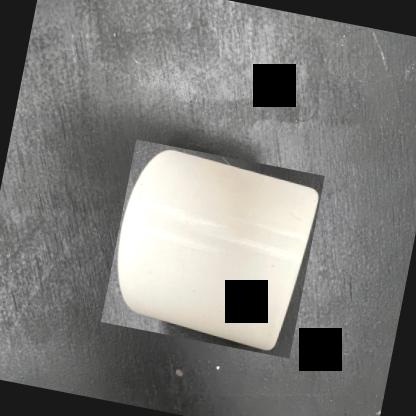white cylinder: (101, 139, 324, 358)
